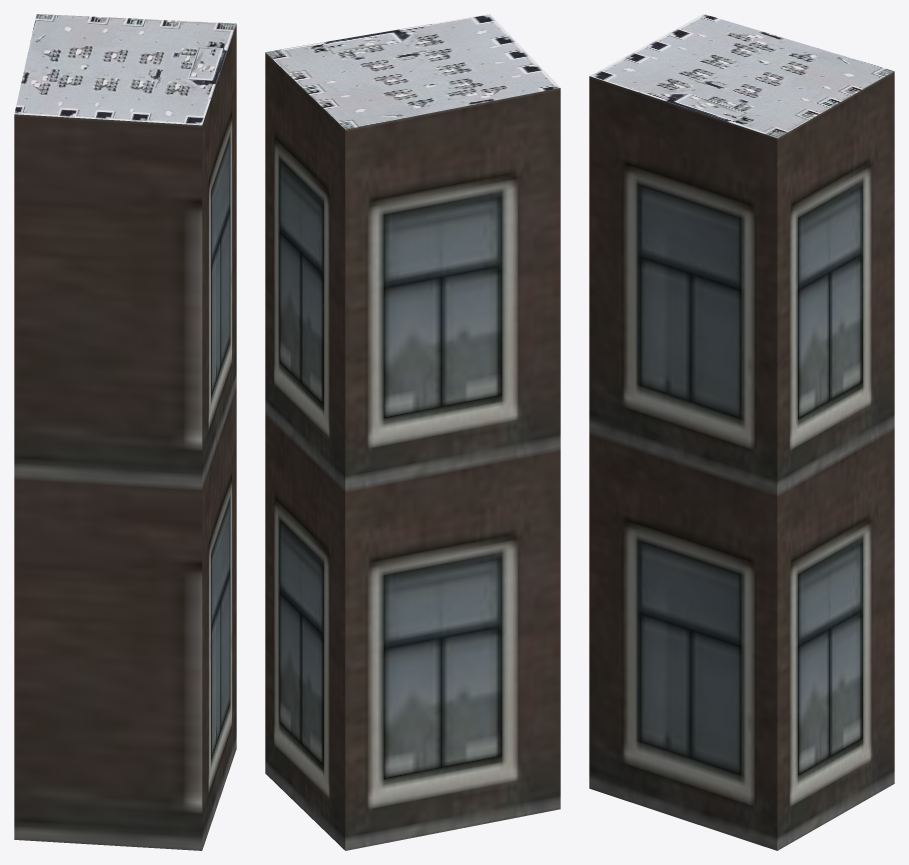
File: ResTex__1359.fbx
3 renders of one model, left to right at view 1: azimuth 30°, elevation 25°; view 2: azimuth 150°, elevation 25°; view 3: azimuth 270°, elevation 25°, orthographic.
Parts seen in each view (by area): view 1: CityEngineMaterial_16_m, CityEngineMaterial_15_m; view 2: CityEngineMaterial_16_m, CityEngineMaterial_15_m; view 3: CityEngineMaterial_16_m, CityEngineMaterial_15_m.
Boxes of the visible parts, x1,y1,x2,y2 form: CityEngineMaterial_16_m: (14,24,236,850); CityEngineMaterial_15_m: (14,14,236,125); CityEngineMaterial_16_m: (265,52,560,850); CityEngineMaterial_15_m: (265,14,560,129); CityEngineMaterial_16_m: (589,71,894,850); CityEngineMaterial_15_m: (590,14,894,138).
Size of the model in its own units: 2.25 by 6 by 2.33.
Materials: 2 (2 with a texture image).
